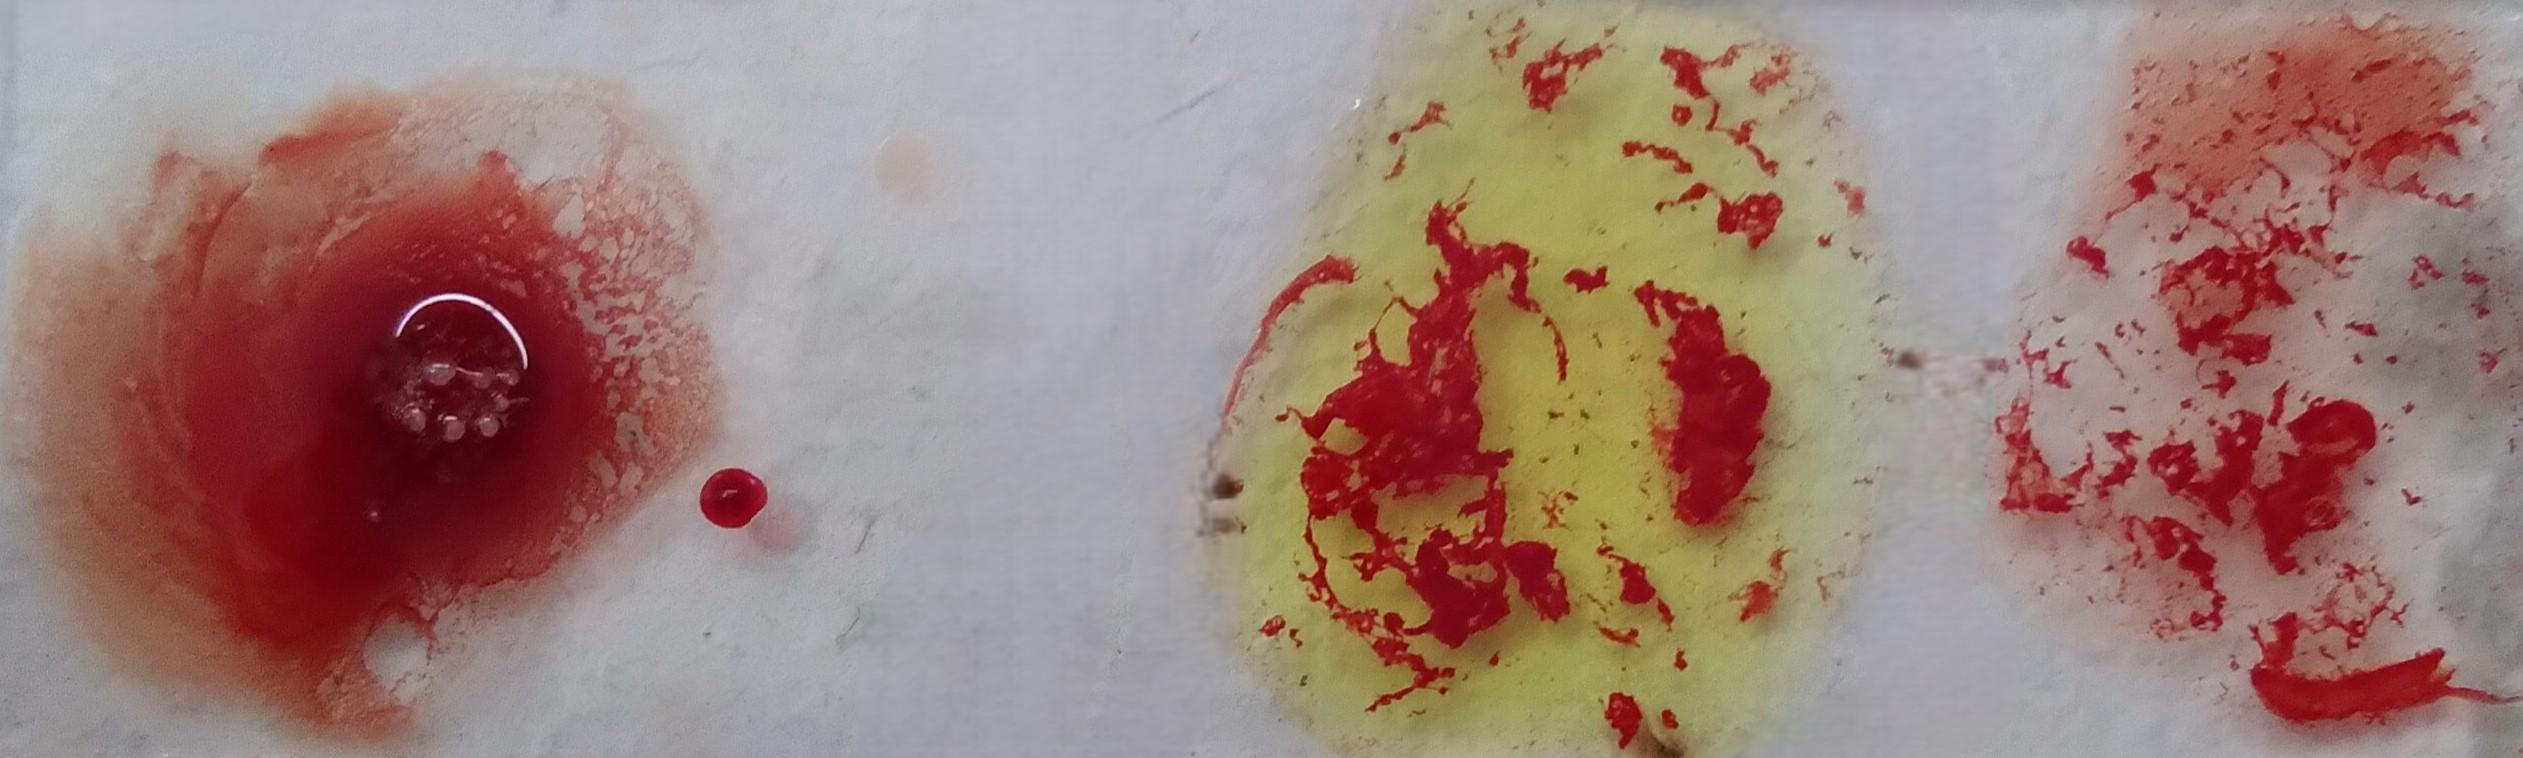A: (235, 117, 640, 739)
B: (1287, 0, 1838, 758)
D: (2027, 43, 2523, 745)
